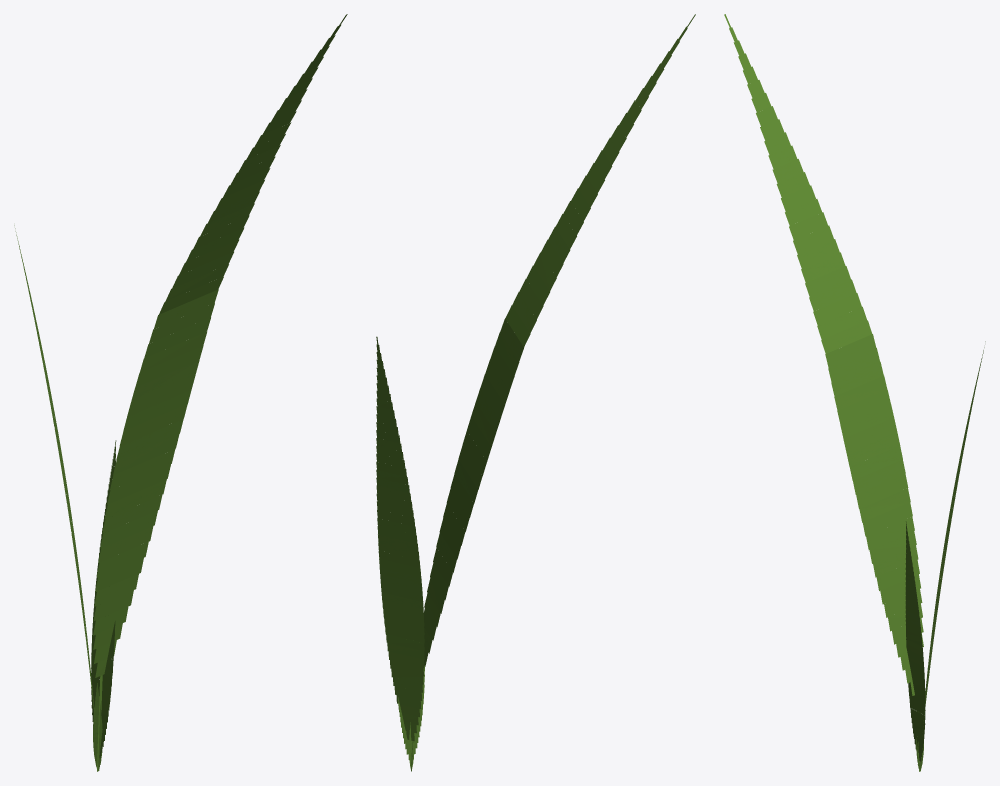
The model's file is maize_002_day_040.dae.
3 views of the same model, side by side, from view 1: azimuth 90°, elevation 25°; view 2: azimuth 150°, elevation 25°; view 3: azimuth 270°, elevation 25° (orthographic). The views are drawn at different scales.
Visible parts, largest first — view 1: node; view 2: node; view 3: node.
Part boxes in pixels (x1,y1,x2,y2): node: (14,14,347,771); node: (376,14,695,771); node: (724,14,985,771).
Size of the model in its own units: 0.0668 by 0.2302 by 0.0809.
1 material, 1 textured.
